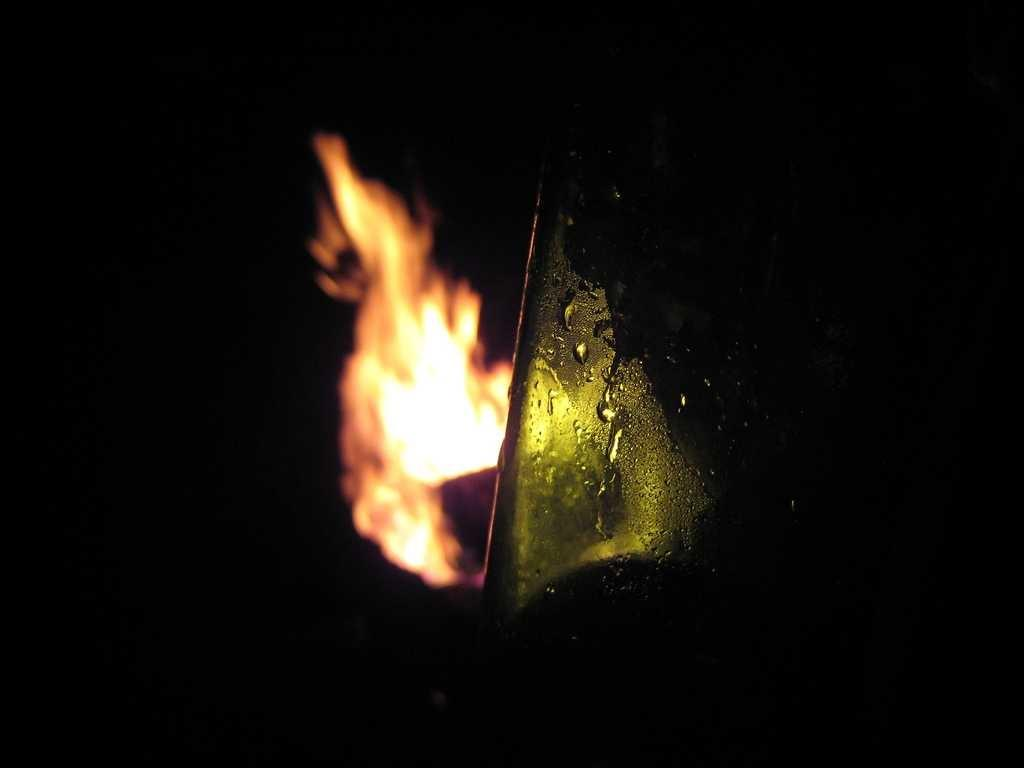fire: (306, 148, 504, 574)
